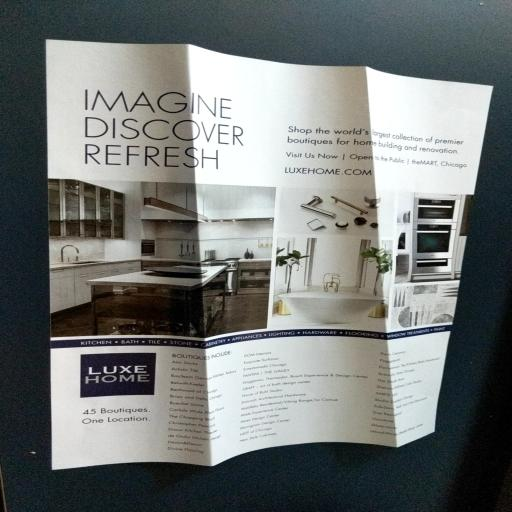paper: (21, 18, 496, 503)
